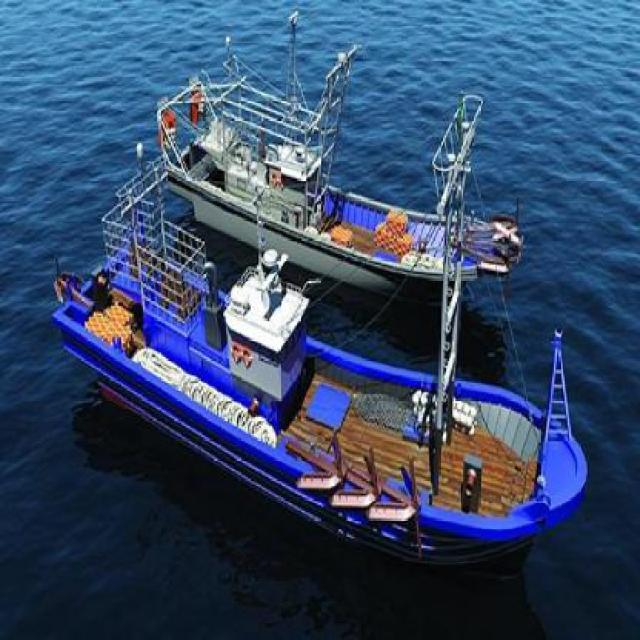fish-b: (40, 136, 599, 570), (150, 6, 529, 302)
